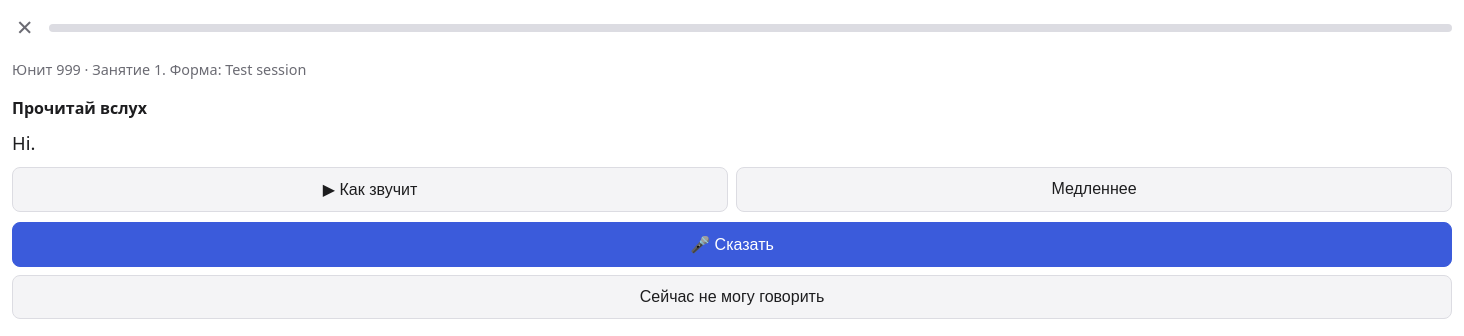
Scenario: a session where every task was put off has no accuracy and no "no mistakes" bonus
What coordinates should you click on to do the following:
click the button "Сейчас не могу говорить"
I would click on:
 (732, 297)
Its box is top-left (12, 275), bottom-right (1452, 319).
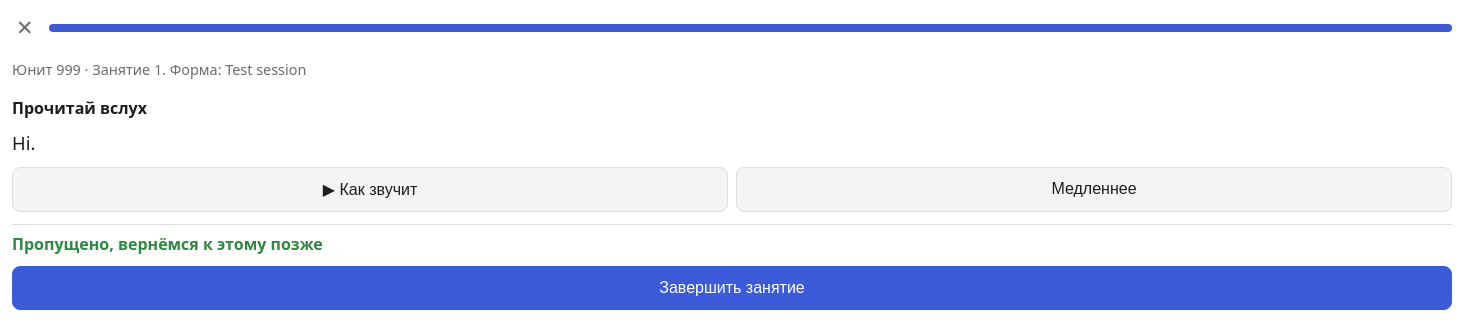
What coordinates should you click on to do the following:
click the button "Завершить занятие"
I would click on:
 (732, 288)
Its box is top-left (12, 266), bottom-right (1452, 310).
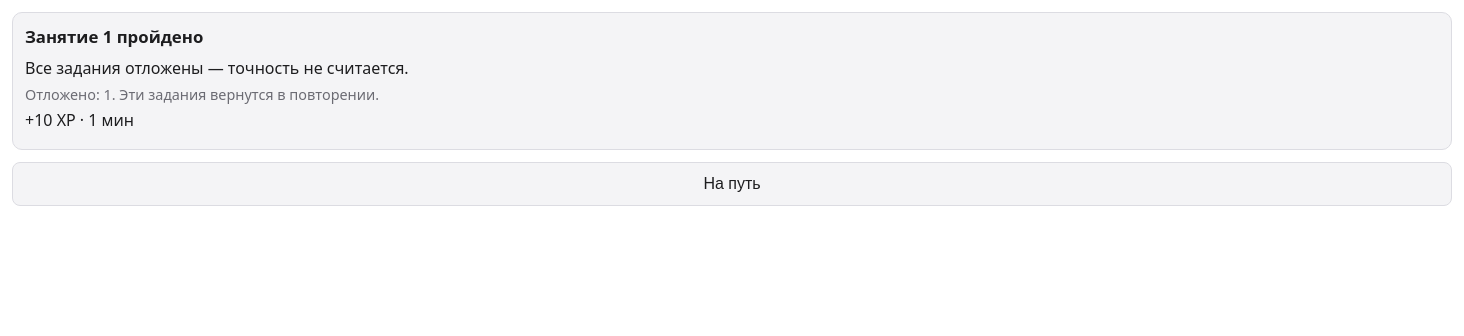
Expected: the text "Все задания отложены — точность не считается." is shown, top-left (25, 57), bottom-right (409, 79)
Expected: the text "+10 XP · 1 мин" is shown, top-left (25, 109), bottom-right (134, 131)
